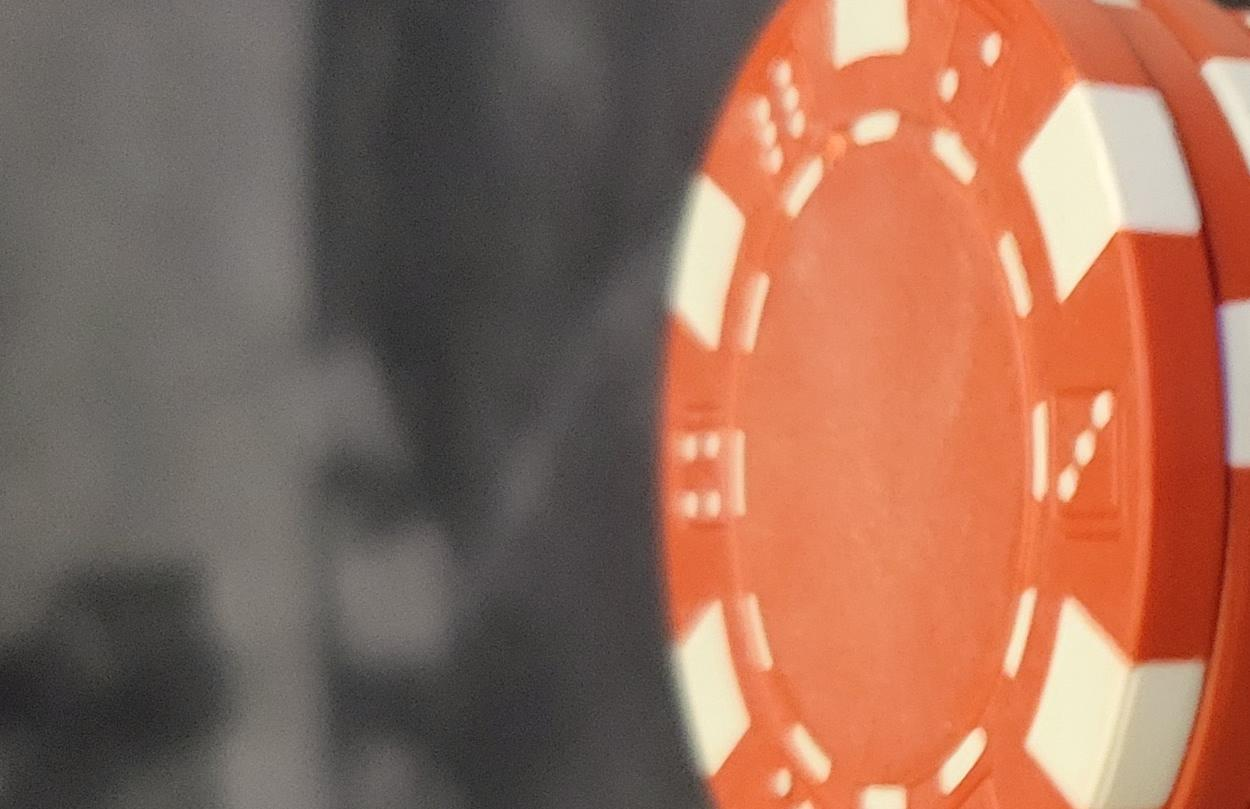Chip: (1, 337, 918, 809)
